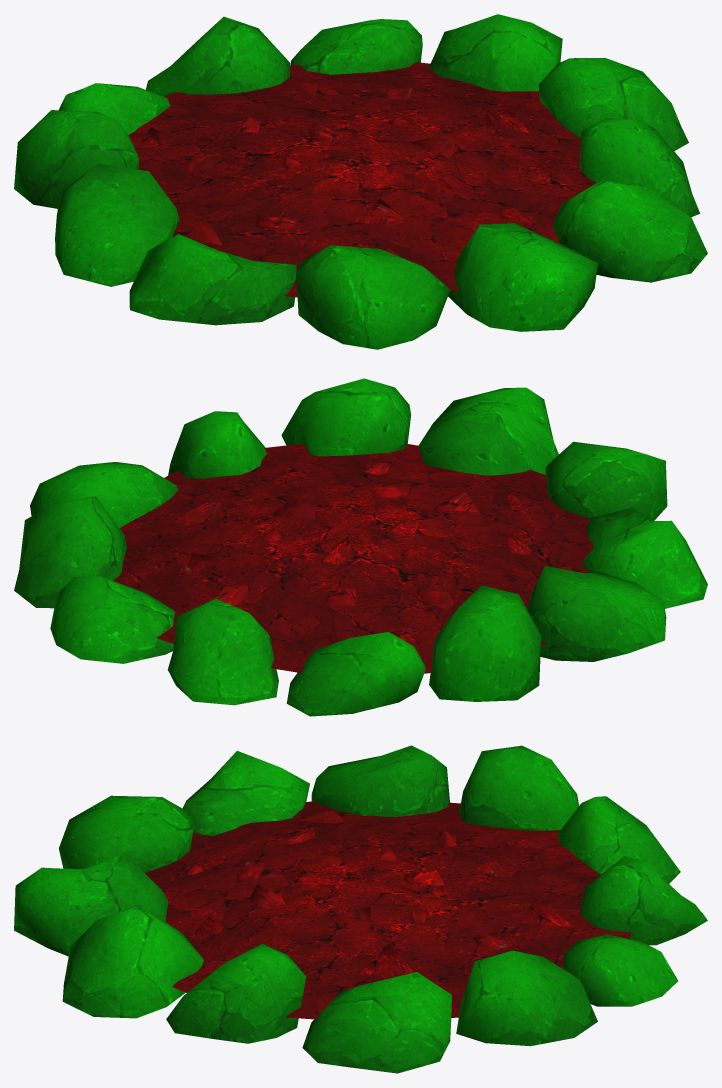
The model's file is StoneRing01.fbx.
The picture shows the model from 3 angles, top to bottom: view 1: azimuth 30°, elevation 25°; view 2: azimuth 150°, elevation 25°; view 3: azimuth 270°, elevation 25°; orthographic projection. The views are drawn at different scales.
Parts seen in each view (by area): view 1: StoneRing01_LOD0; view 2: StoneRing01_LOD0; view 3: StoneRing01_LOD0.
Boxes of the visible parts, x1,y1,x2,y2 form: StoneRing01_LOD0: (14, 14, 707, 349); StoneRing01_LOD0: (14, 378, 707, 716); StoneRing01_LOD0: (14, 745, 707, 1073).
Size of what is drawn, in the model's own units: 0.9913 by 0.1357 by 1.
